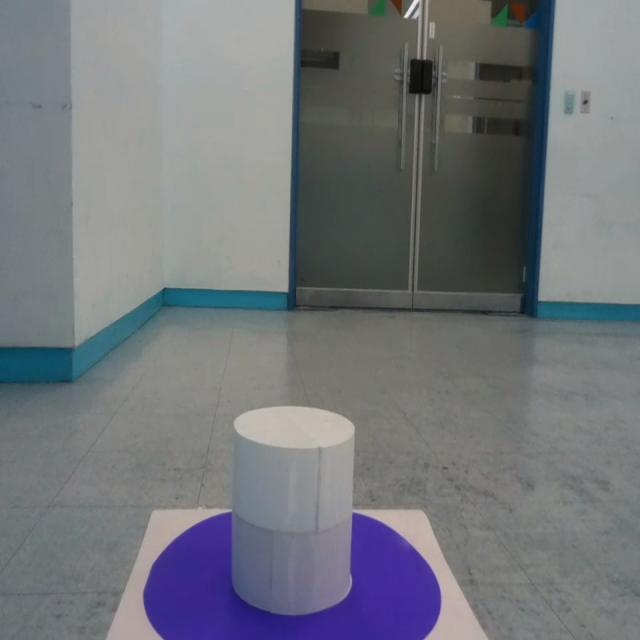cylinder: (230, 406, 356, 615)
